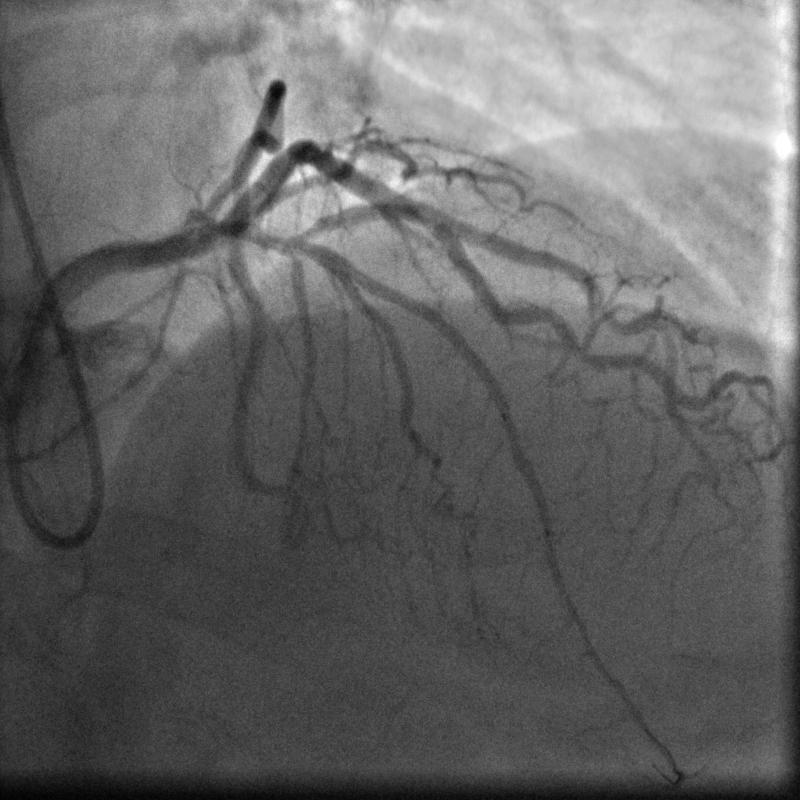Stenosis: (401, 195, 441, 237)
